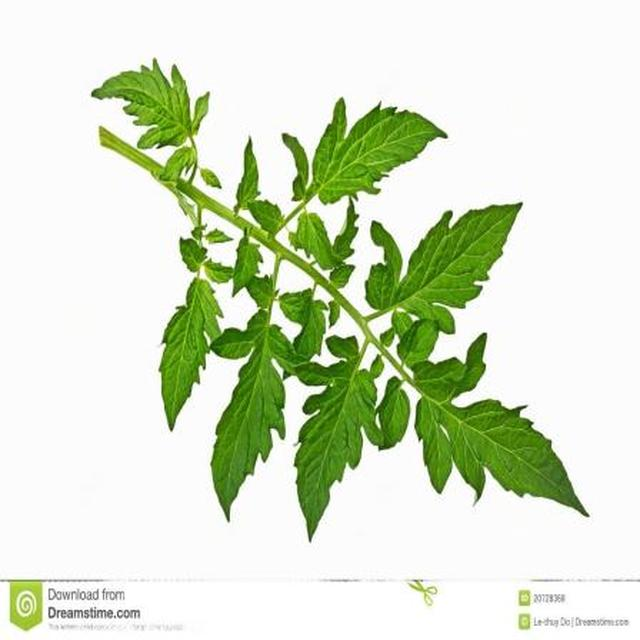Healthy Leaf: (97, 133, 640, 627)
